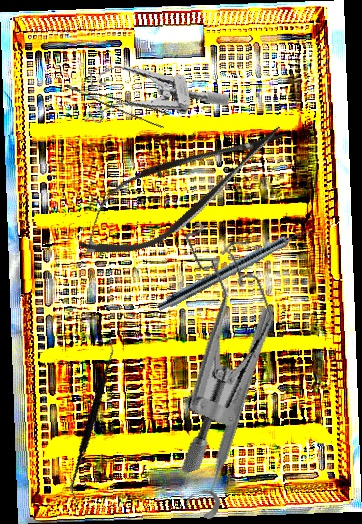Fixation Ring: (181, 302, 279, 521)
Handpiece: (155, 221, 315, 317)
Micro Scissor: (62, 99, 300, 278)
Spatula Surgical: (31, 336, 156, 503)
Speculum: (104, 207, 319, 476), (73, 42, 232, 136)
Tissue Forceps: (64, 67, 171, 134)
